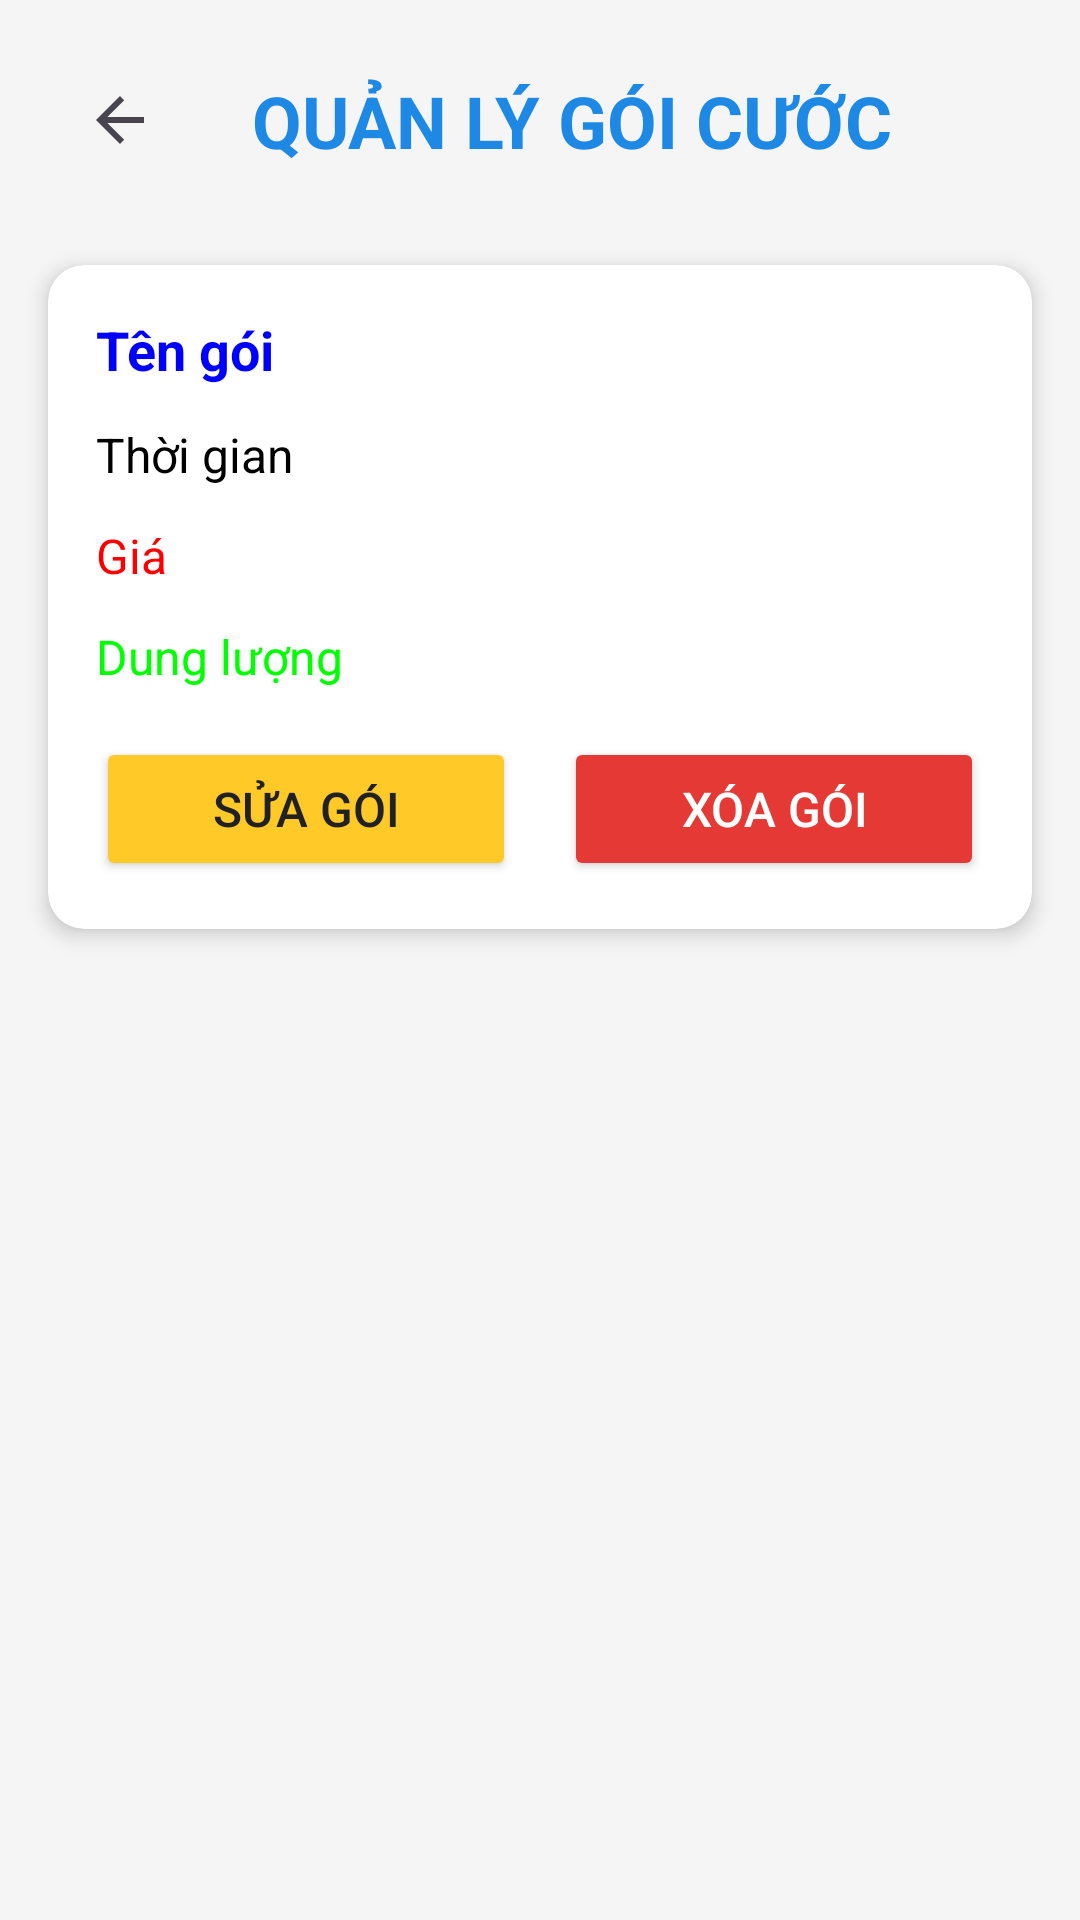

Screen size 1080×1920. Icon name, then its box in pixels as (x1, y1, x2, y2):
Nút quay lại: (96, 96, 144, 144)
